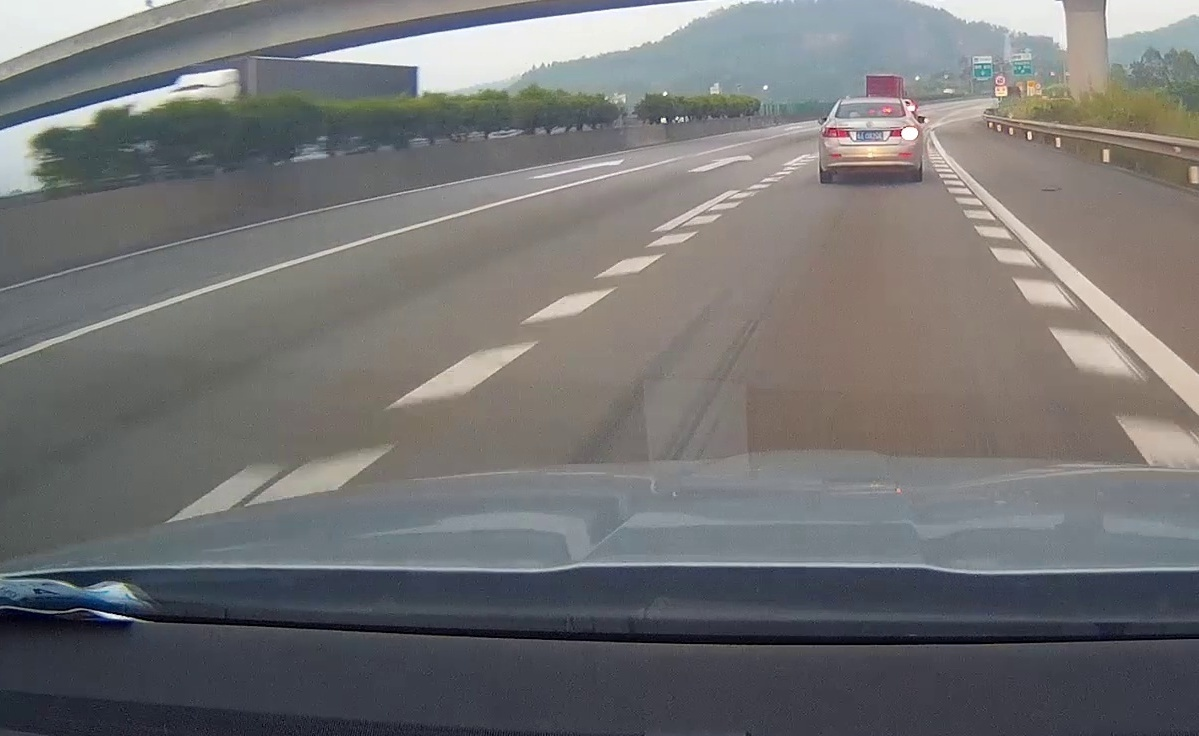L_light: (821, 126, 851, 138)
R_light: (889, 126, 919, 137)
T_light: (862, 115, 880, 118)
day-right: (818, 97, 923, 184)
